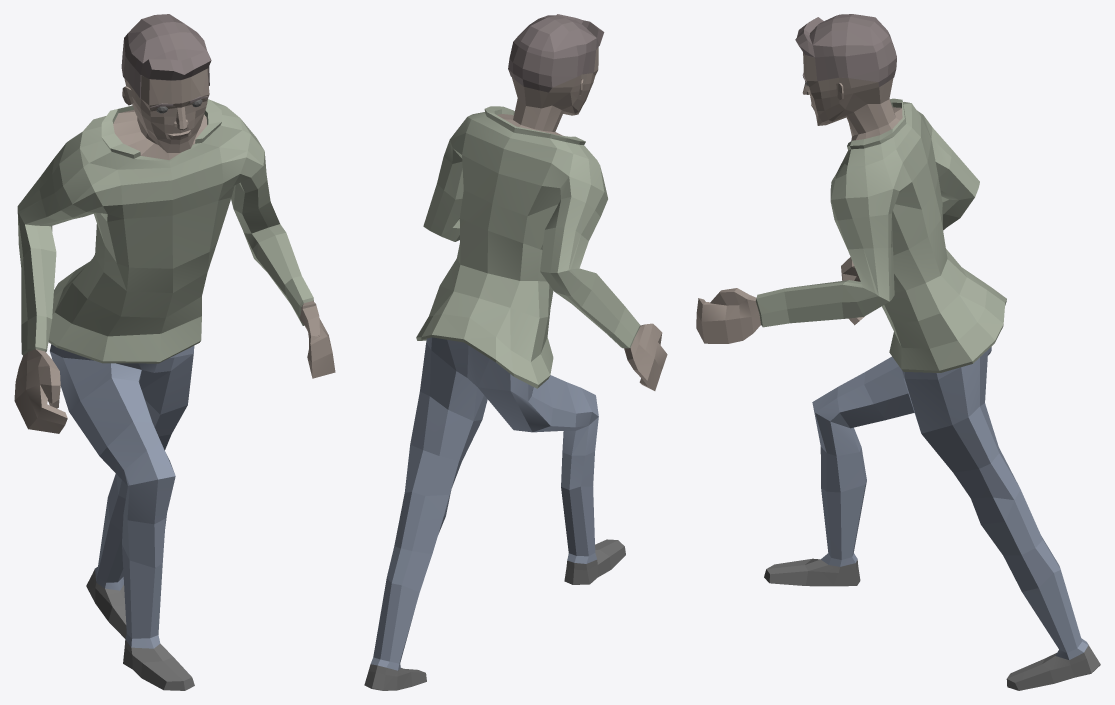
File: run_10.glb
3 renders of one model, left to right at view 1: azimuth 30°, elevation 25°; view 2: azimuth 150°, elevation 25°; view 3: azimuth 270°, elevation 25°, orthographic. The views are drawn at different scales.
Parts seen in each view (by area): view 1: BaseHuman_baked; view 2: BaseHuman_baked; view 3: BaseHuman_baked.
Boxes of the visible parts, <box> form: BaseHuman_baked: <box>14,14,335,690</box>; BaseHuman_baked: <box>364,14,667,690</box>; BaseHuman_baked: <box>696,14,1100,690</box>.
Bounding box in the file's own units: 1.79 × 4.68 × 2.68.
